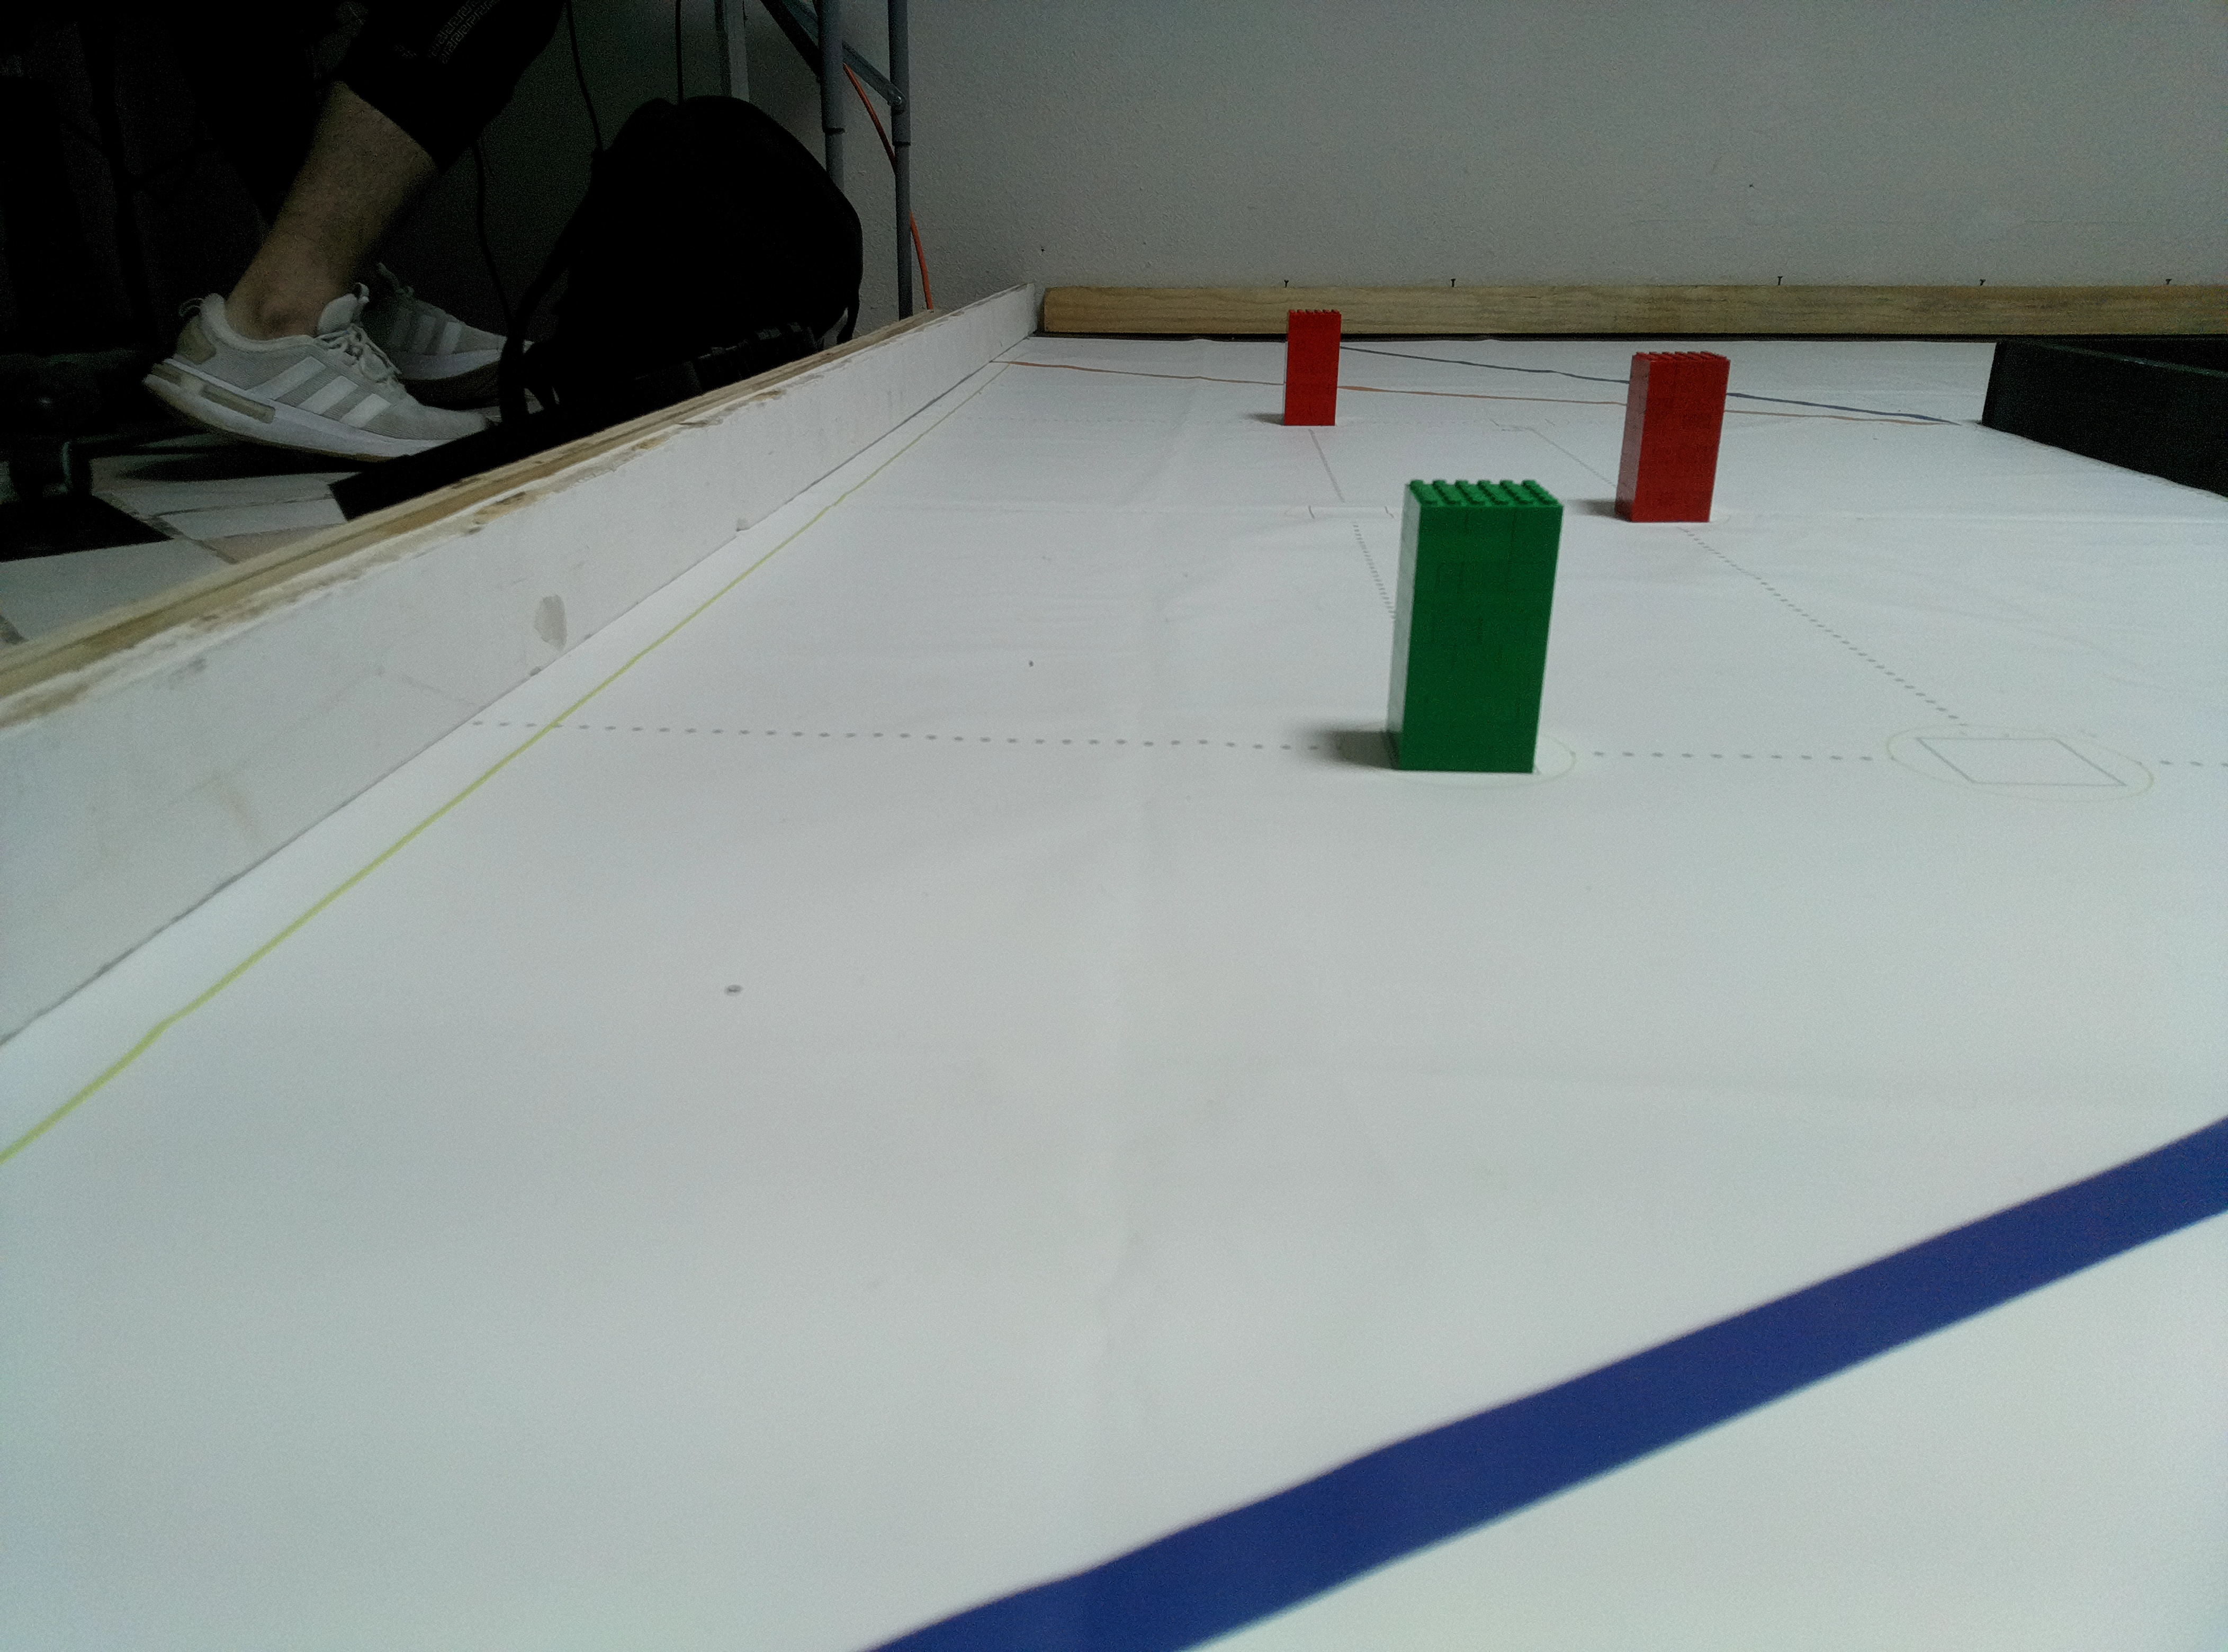greenbox: (1381, 474, 1569, 776)
redbox: (1610, 347, 1732, 524), (1282, 305, 1343, 430)
